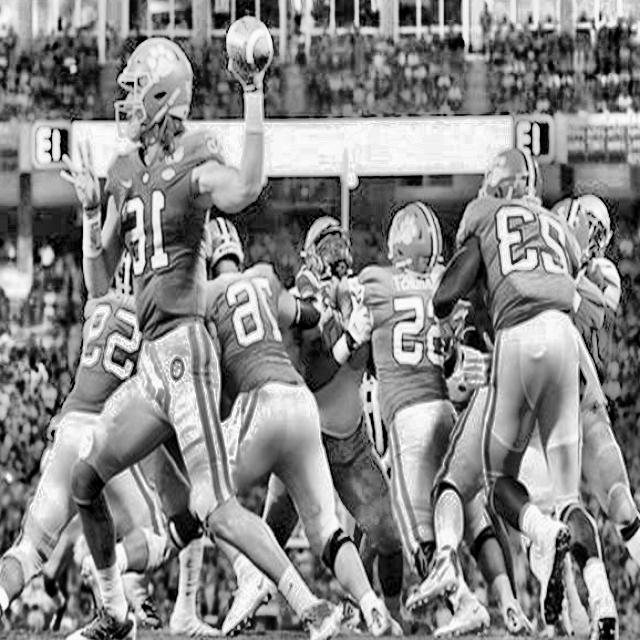Helmet: (110, 32, 194, 151), (386, 197, 446, 281), (475, 145, 546, 212), (301, 213, 358, 279)
